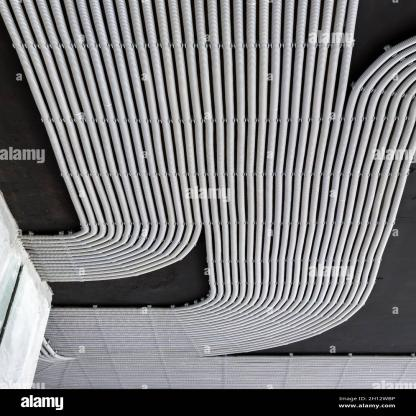PVC: (1, 1, 415, 388)
